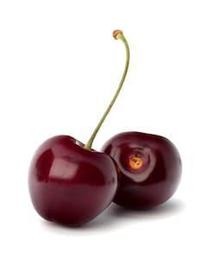cherry: (28, 134, 118, 228), (101, 132, 183, 211)
